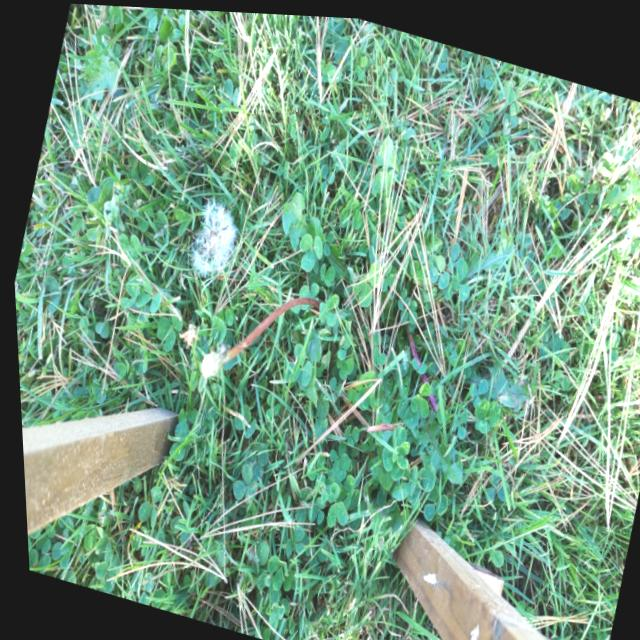base: (303, 280, 332, 321)
